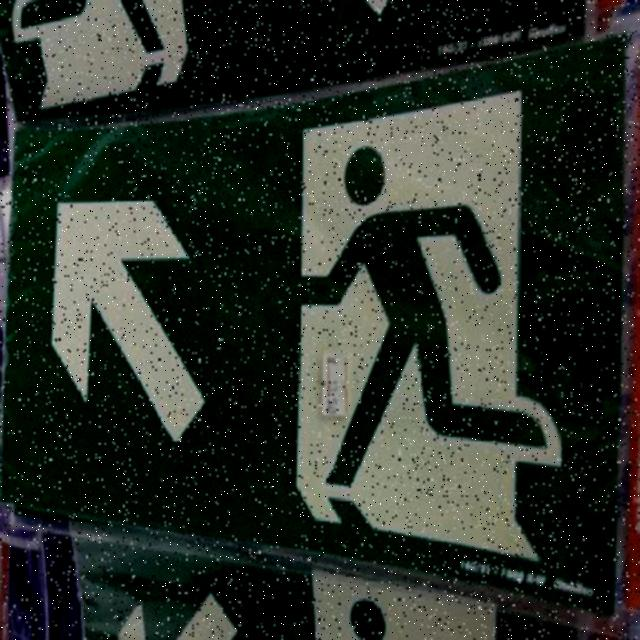emergency_exit: (1, 25, 636, 635)
